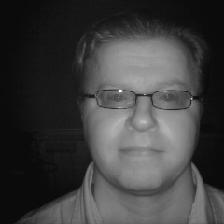normal: (66, 13, 216, 197)
